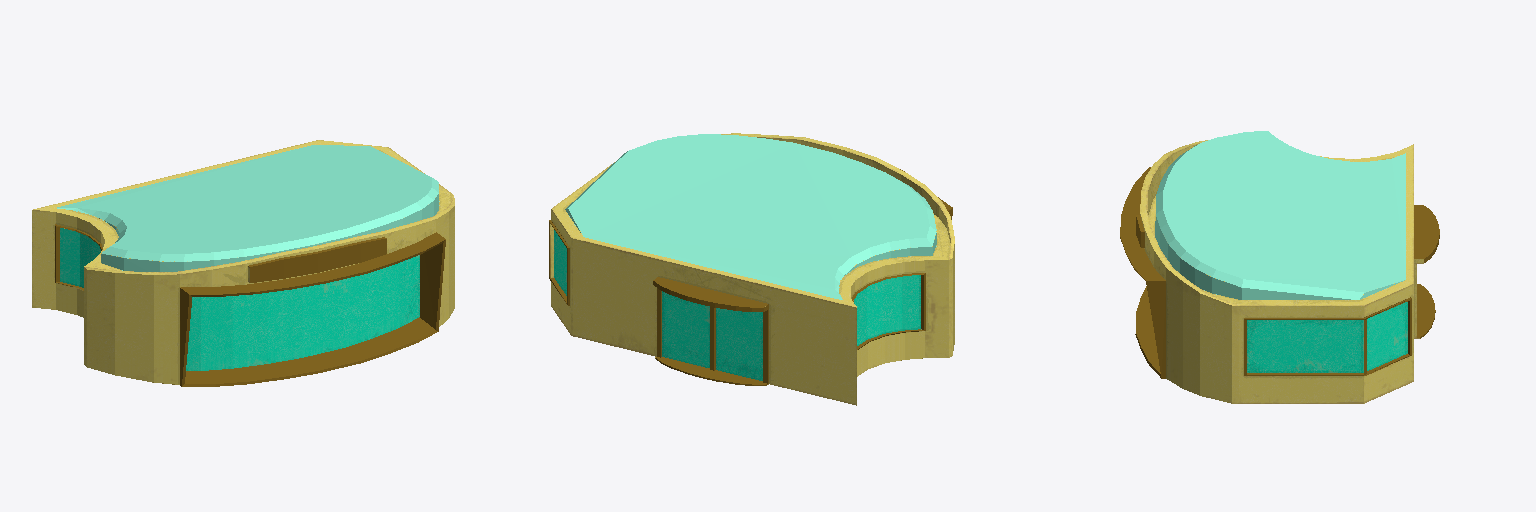
3 renders of one model, left to right at view 1: azimuth 30°, elevation 25°; view 2: azimuth 150°, elevation 25°; view 3: azimuth 270°, elevation 25°, orthographic.
Parts seen in each view (by area): view 1: drorania_market; view 2: drorania_market; view 3: drorania_market.
Boxes of the visible parts, x1=… form: drorania_market: x1=32, y1=140, x2=454, y2=386; drorania_market: x1=549, y1=133, x2=954, y2=405; drorania_market: x1=1120, y1=131, x2=1439, y2=403.
Bounding box in the file's own units: 297 × 100 × 232.
1 materials, 1 textured.